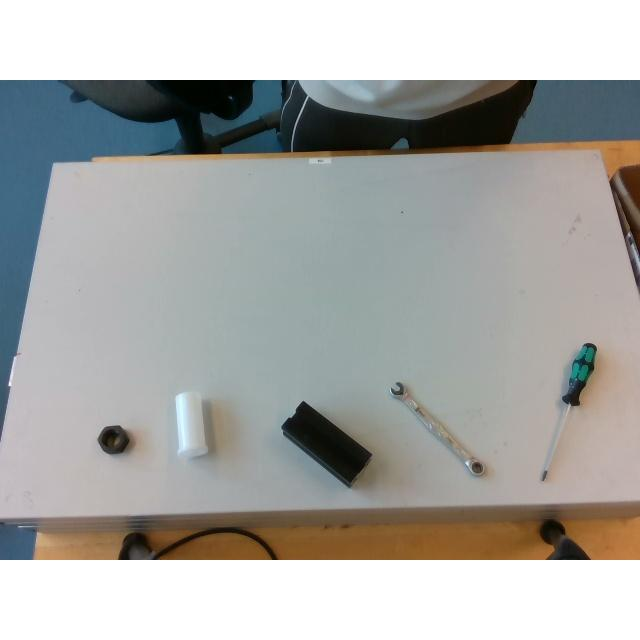M20: (98, 425, 130, 453)
S40_40_B: (281, 402, 371, 486)
Screwdriver: (540, 342, 596, 480)
Spacer: (176, 392, 208, 456)
Wrench: (389, 380, 486, 476)
